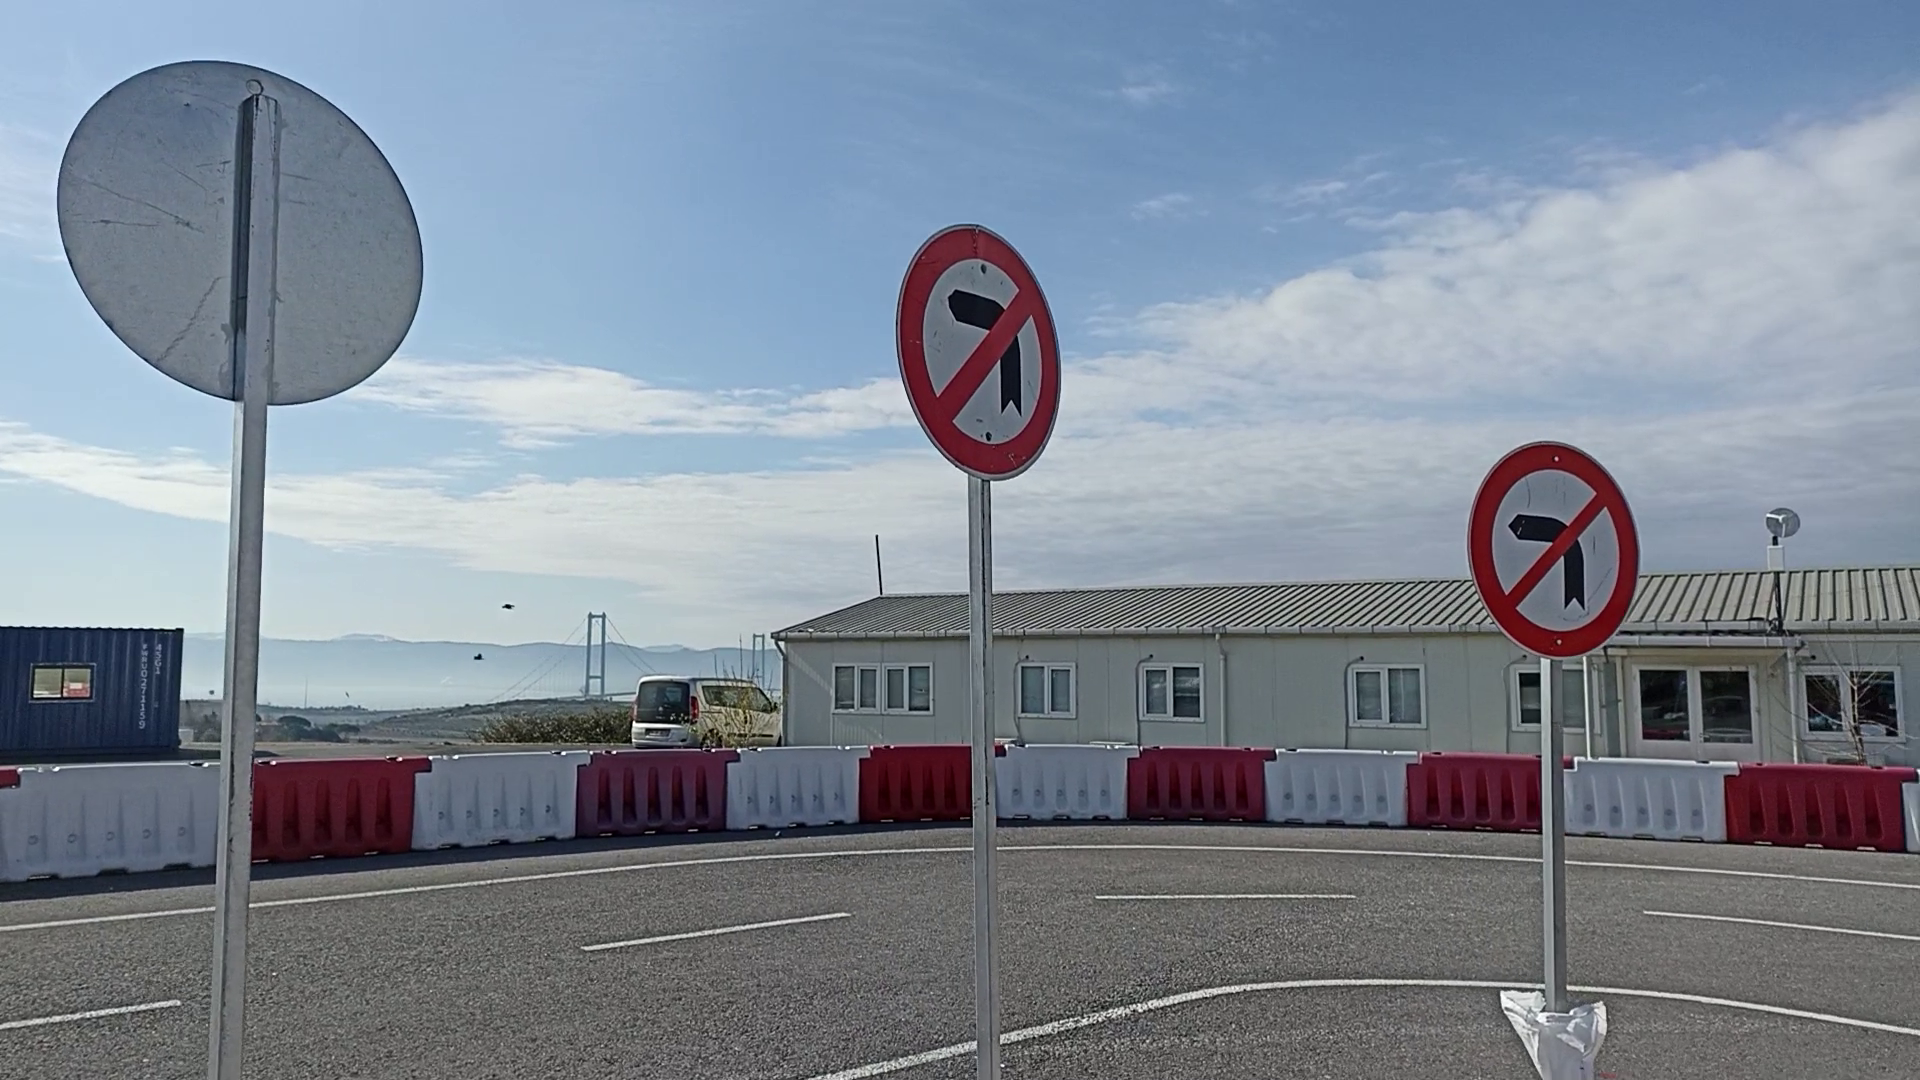noleft: (891, 219, 1064, 488), (1462, 438, 1644, 665)
